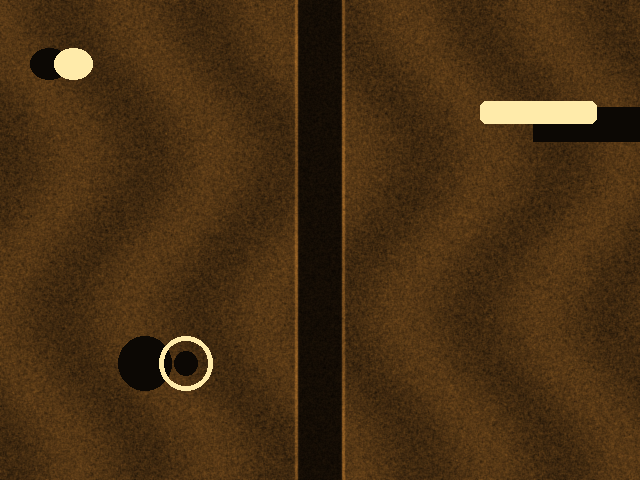Glass Debris: (54, 48, 92, 79)
Rubber Debris: (159, 336, 212, 390)
Wood Debris: (480, 101, 596, 123)
